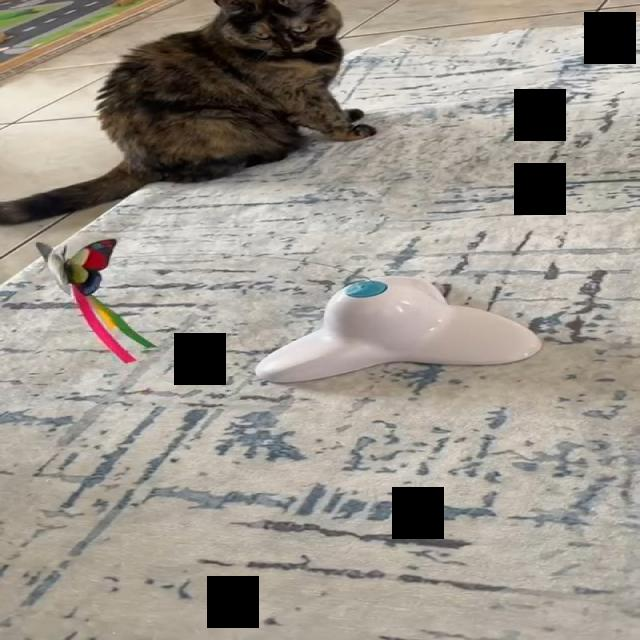authorized: (0, 0, 376, 225)
